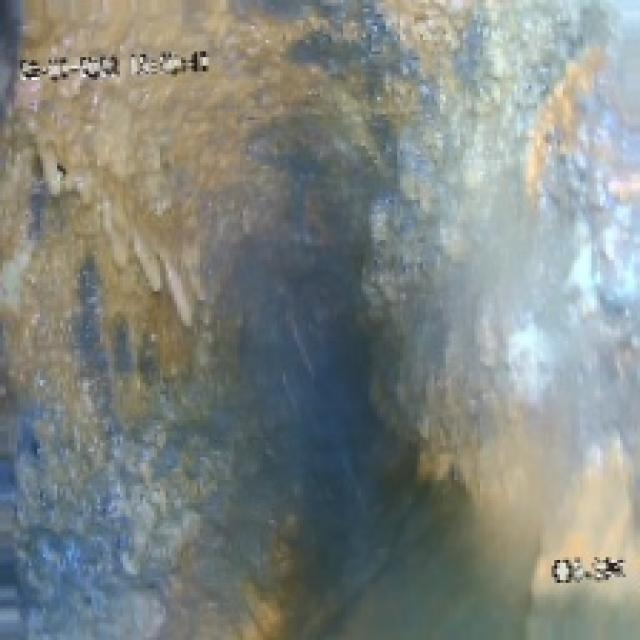encrustation: (86, 112, 588, 477)
